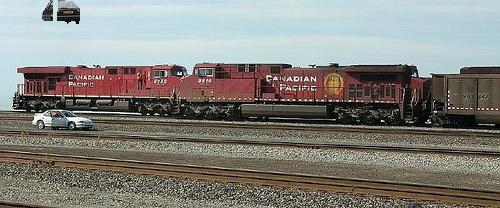tampered: (43, 1, 80, 24)
